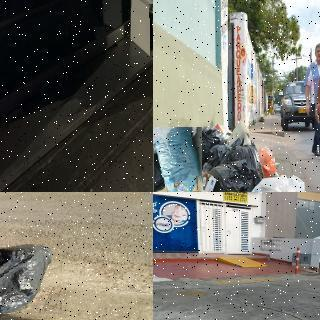Garbage: (0, 242, 64, 320), (153, 127, 202, 192), (209, 159, 256, 192), (250, 174, 308, 192)
